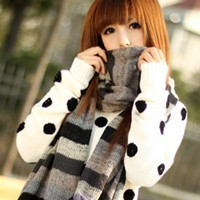face_mask: (97, 5, 146, 67)
